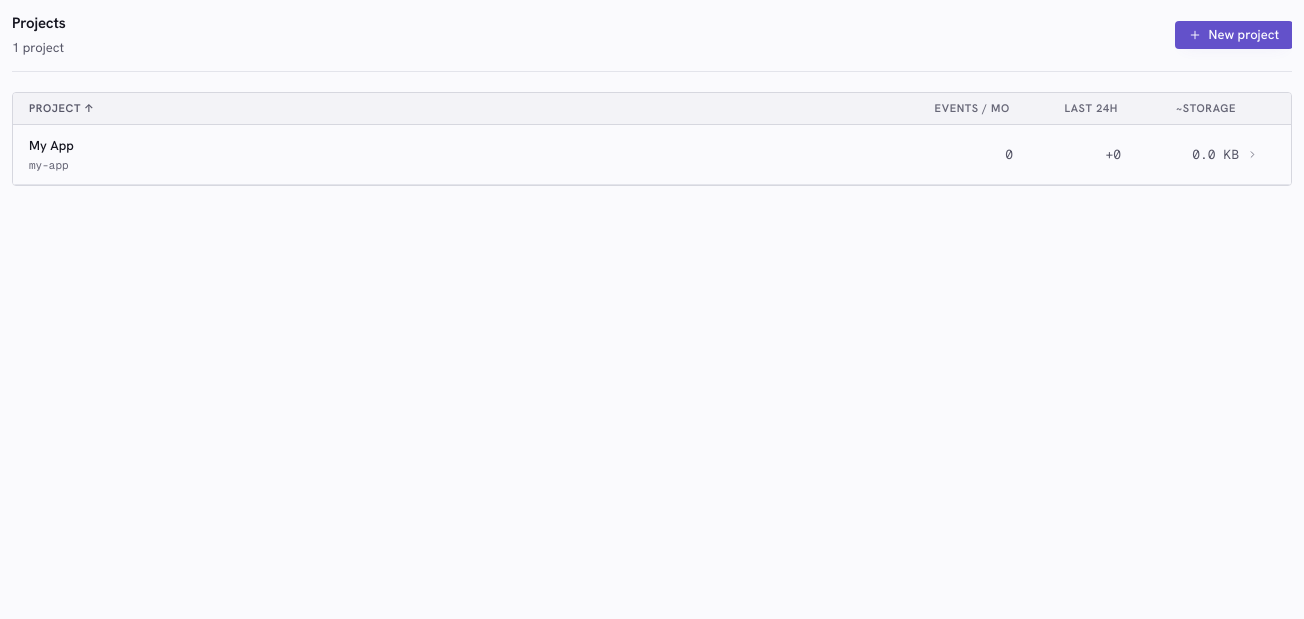
ProjectsTab › edit project › shows delete confirmation when Delete is clicked in expanded project
Click the button "My App my-app 0 +0 0.0 KB" at [51, 145], box x1=13 y1=126 x2=1291 y2=184
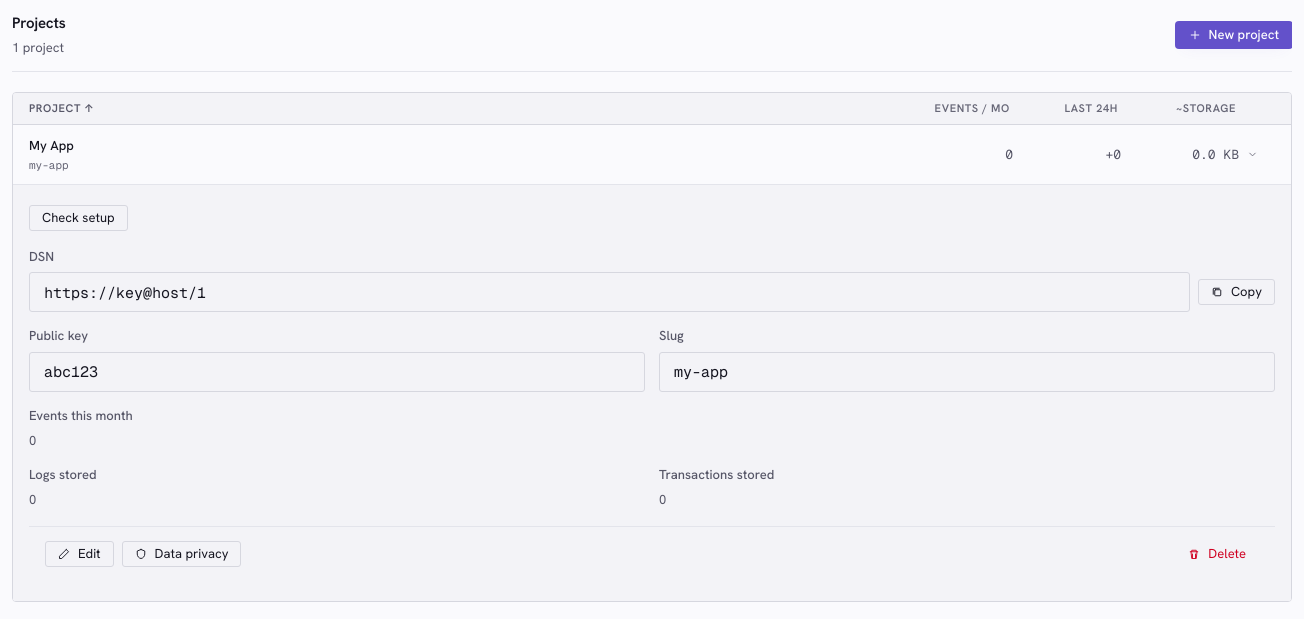
Expected: the button with class "btn--ghost" is shown
Click the button with class "btn--ghost" at [1217, 554], box x1=1175 y1=540 x2=1259 y2=566
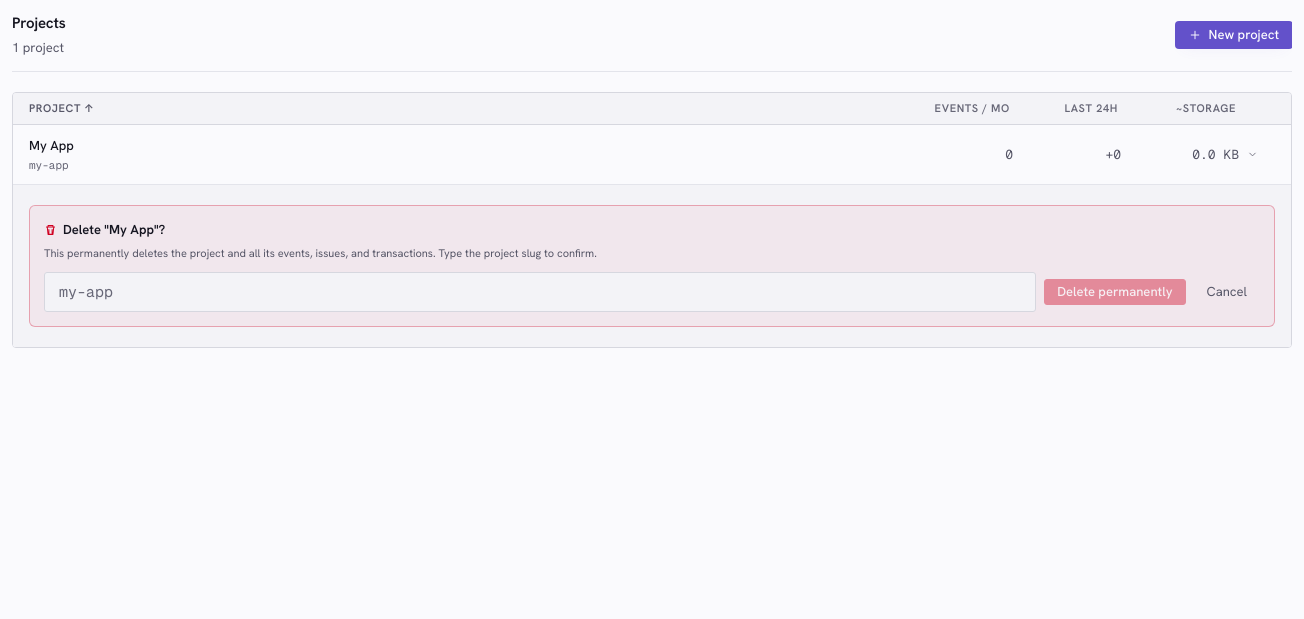
Expected: the field with placeholder "my-app" is shown, x1=44 y1=272 x2=1036 y2=312
Expected: the element that starts with "Delete \"My App\"?" is shown, x1=29 y1=204 x2=1275 y2=326
